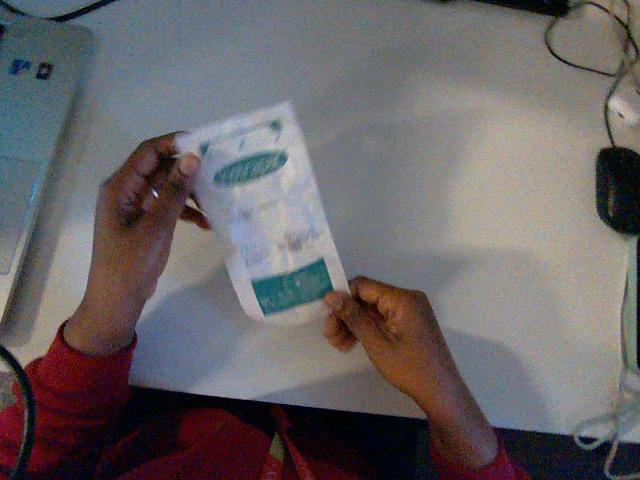gallipot: (177, 102, 347, 324)
